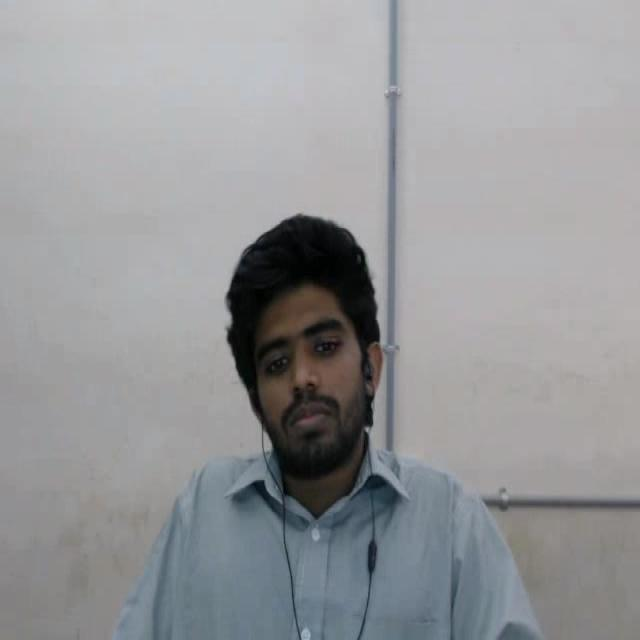Engaged: (206, 195, 400, 526)
